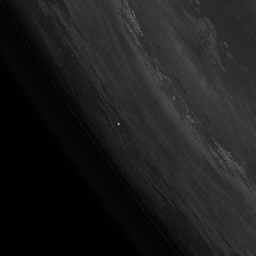Target: (116, 121, 121, 126)
